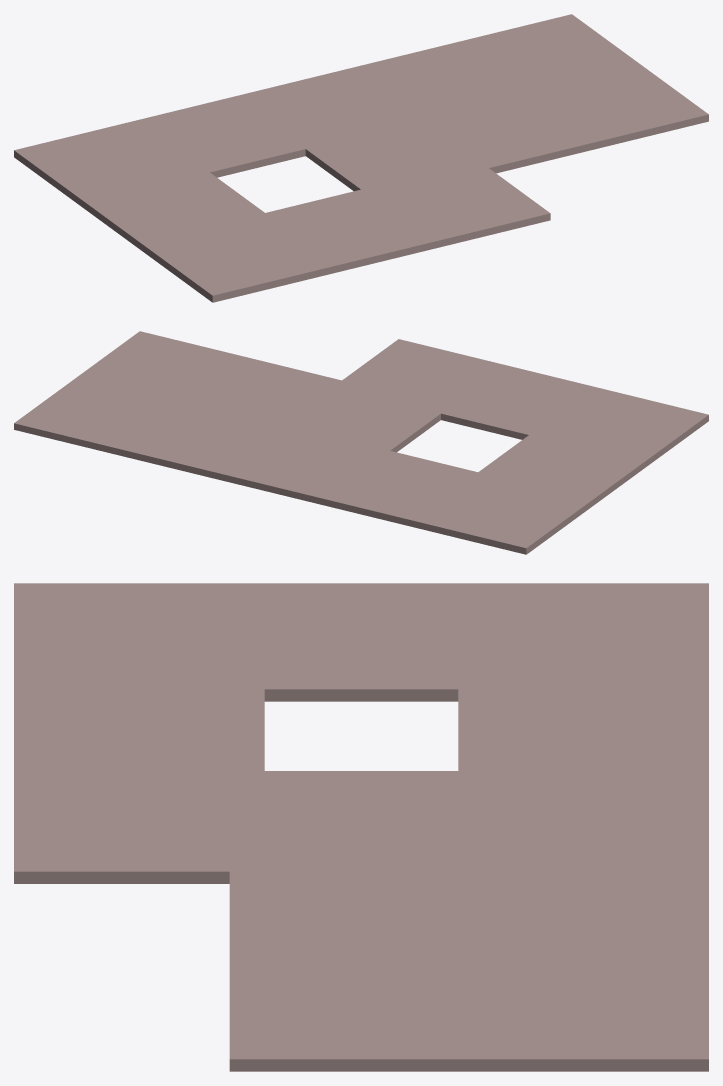
The model's file is base_floor.glb.
3 renders of one model, top to bottom at view 1: azimuth 30°, elevation 25°; view 2: azimuth 150°, elevation 25°; view 3: azimuth 270°, elevation 25°, orthographic. The views are drawn at different scales.
Parts seen in each view (by area): view 1: BaseFloor; view 2: BaseFloor; view 3: BaseFloor.
Part boxes in pixels (x1=…): BaseFloor: x1=14, y1=14, x2=708, y2=302; BaseFloor: x1=14, y1=331, x2=708, y2=554; BaseFloor: x1=14, y1=583, x2=708, y2=1071.
Size of the model in its own units: 26.11 by 0.3166 by 16.11.
